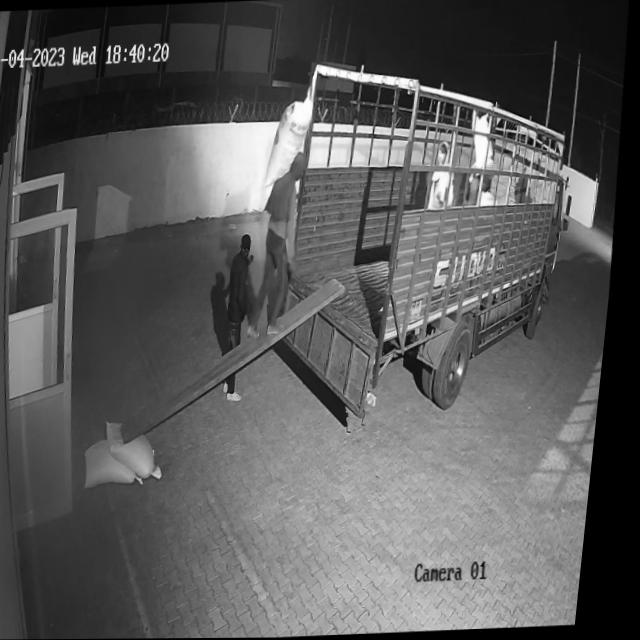sack: (264, 97, 318, 187), (110, 418, 169, 479), (91, 436, 150, 489), (470, 107, 501, 173)
